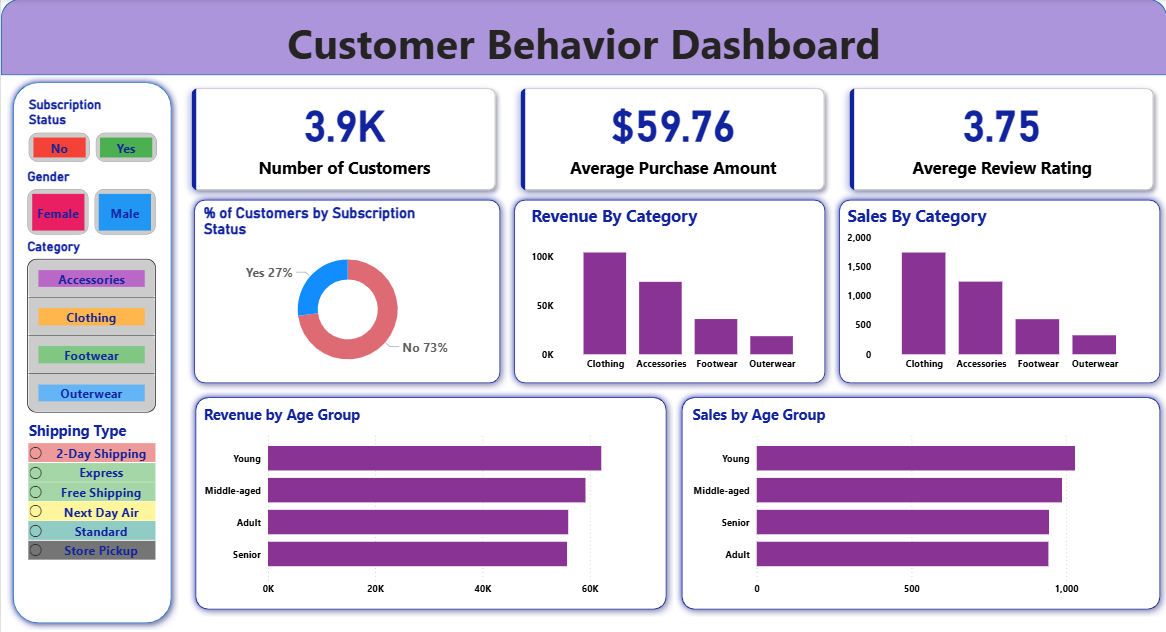

This screenshot's page, from the dashboard's own definition file:
{"tool":"powerbi","page":{"name":"Page 1","canvas":[1500,820],"ordinal":0},"visuals":[{"type":"cardVisual","fields":{"Data":["public customer.Number of Customers","public customer.Average Purchase Amount","public customer.Averege Review Rating"]},"box":[228.3,98.1,1272,165.6],"z":0},{"type":"shape","box":[0,0,1500.3,98.1],"z":1000},{"type":"textbox","box":[0,14.5,1500.3,83.6],"z":2000},{"type":"shape","box":[239.6,249.3,411.7,254.1],"z":3000},{"type":"donutChart","title":"% of Customers by Subscription Status","fields":{"Category":["public customer.subscription_status"],"Y":["CountNonNull(public customer.customer_id)"]},"box":[255.7,263.7,381.1,223.5],"z":4000},{"type":"shape","box":[651.3,249.3,418.1,254.1],"z":5000},{"type":"shape","box":[1069.4,249.3,431,254.1],"z":6000},{"type":"lineClusteredColumnComboChart","title":"Revenue By Category","fields":{"Category":["public customer.category"],"Y":["Sum(public customer.purchase_amount)"]},"box":[677,263.7,377.9,223.5],"z":7000},{"type":"lineClusteredColumnComboChart","title":"Sales By Category","fields":{"Category":["public customer.category"],"Y":["CountNonNull(public customer.customer_id)"]},"box":[1083.8,263.7,387.5,223.5],"z":8000},{"type":"shape","box":[6.4,98.1,221.9,714],"z":9000},{"type":"advancedSlicerVisual","title":"Subscription Status","fields":{"Values":["public customer.subscription_status"],"Label":["public customer.Subscription Color"]},"box":[30.6,125.4,175.3,90.1],"z":10000},{"type":"advancedSlicerVisual","title":"Category","fields":{"Values":["public customer.category"],"Label":["public customer.CATEGORY COLOR"]},"box":[28.9,308.7,175.3,228.3],"z":12000},{"type":"listSlicer","title":"Shipping Type","fields":{"Values":["public customer.shipping_type"]},"box":[30.6,541.9,173.7,234.8],"z":13000},{"type":"shape","box":[241.2,503.3,623.9,291.1],"z":14000},{"type":"clusteredBarChart","title":"Revenue by Age Group","fields":{"Y":["Sum(public customer.purchase_amount)"],"Category":["public customer.age_group"]},"box":[255.7,521,586.9,255.7],"z":15000},{"type":"shape","box":[866.7,503.3,633.6,291.1],"z":16000},{"type":"clusteredBarChart","title":"Sales by Age Group","fields":{"Category":["public customer.age_group"],"Y":["CountNonNull(public customer.customer_id)"]},"box":[884.4,521,586.9,255.7],"z":17000},{"type":"advancedSlicerVisual","title":"Gender","fields":{"Values":["public customer.gender"],"Label":["public customer.GENDER COLOR"]},"box":[28.9,218.7,175.3,90.1],"z":17001}]}

Visuals, with their boxes in screenshot pixels (x1, y1, x2, y2), scaled from the page's 1500x820 canvas onto the 1166x632 screenshot:
cardVisual - public customer.Number of Customers x public customer.Average Purchase Amount: (left=177, top=76, right=1165, bottom=203)
shape: (left=0, top=0, right=1165, bottom=76)
textbox: (left=0, top=11, right=1165, bottom=76)
shape: (left=186, top=192, right=506, bottom=388)
"% of Customers by Subscription Status" donutChart: (left=199, top=203, right=495, bottom=376)
shape: (left=506, top=192, right=831, bottom=388)
shape: (left=831, top=192, right=1165, bottom=388)
"Revenue By Category" lineClusteredColumnComboChart: (left=526, top=203, right=820, bottom=376)
"Sales By Category" lineClusteredColumnComboChart: (left=842, top=203, right=1144, bottom=376)
shape: (left=5, top=76, right=177, bottom=626)
"Subscription Status" advancedSlicerVisual: (left=24, top=97, right=160, bottom=166)
"Category" advancedSlicerVisual: (left=22, top=238, right=159, bottom=414)
"Shipping Type" listSlicer: (left=24, top=418, right=159, bottom=599)
shape: (left=187, top=388, right=672, bottom=612)
"Revenue by Age Group" clusteredBarChart: (left=199, top=402, right=655, bottom=599)
shape: (left=674, top=388, right=1165, bottom=612)
"Sales by Age Group" clusteredBarChart: (left=687, top=402, right=1144, bottom=599)
"Gender" advancedSlicerVisual: (left=22, top=169, right=159, bottom=238)
